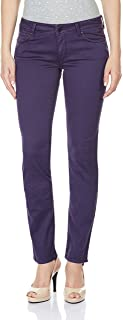jeans: (15, 12, 112, 263)
